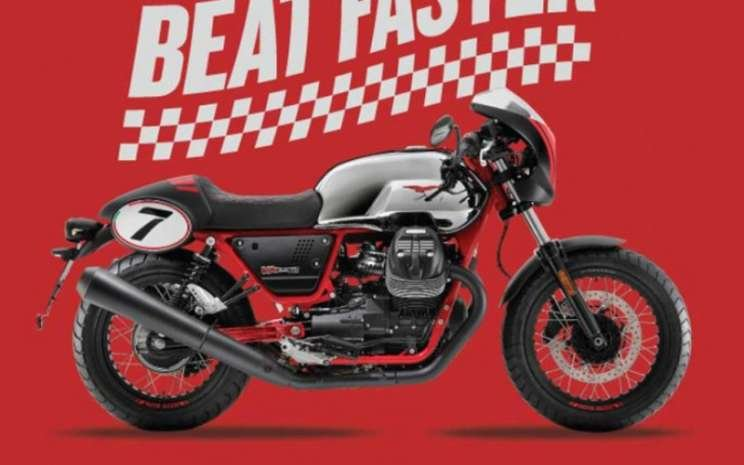motor: (45, 90, 706, 442)
